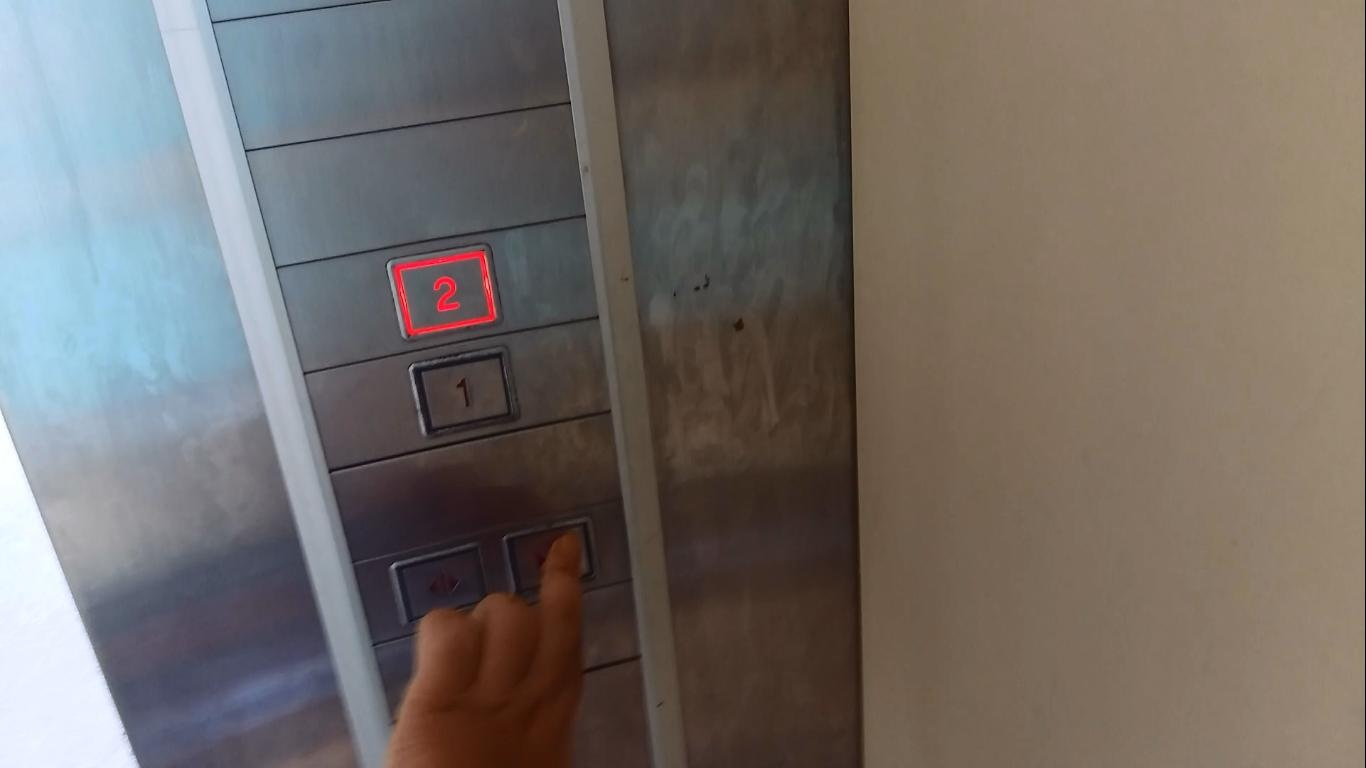1: (408, 344, 520, 439)
2: (386, 243, 502, 342)
open: (390, 542, 490, 627)
